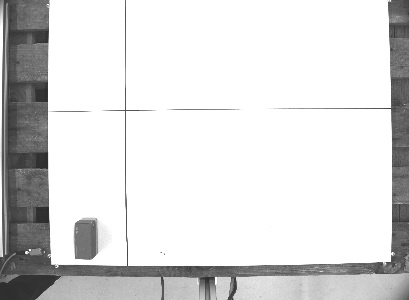b3: (69, 215, 102, 260)
